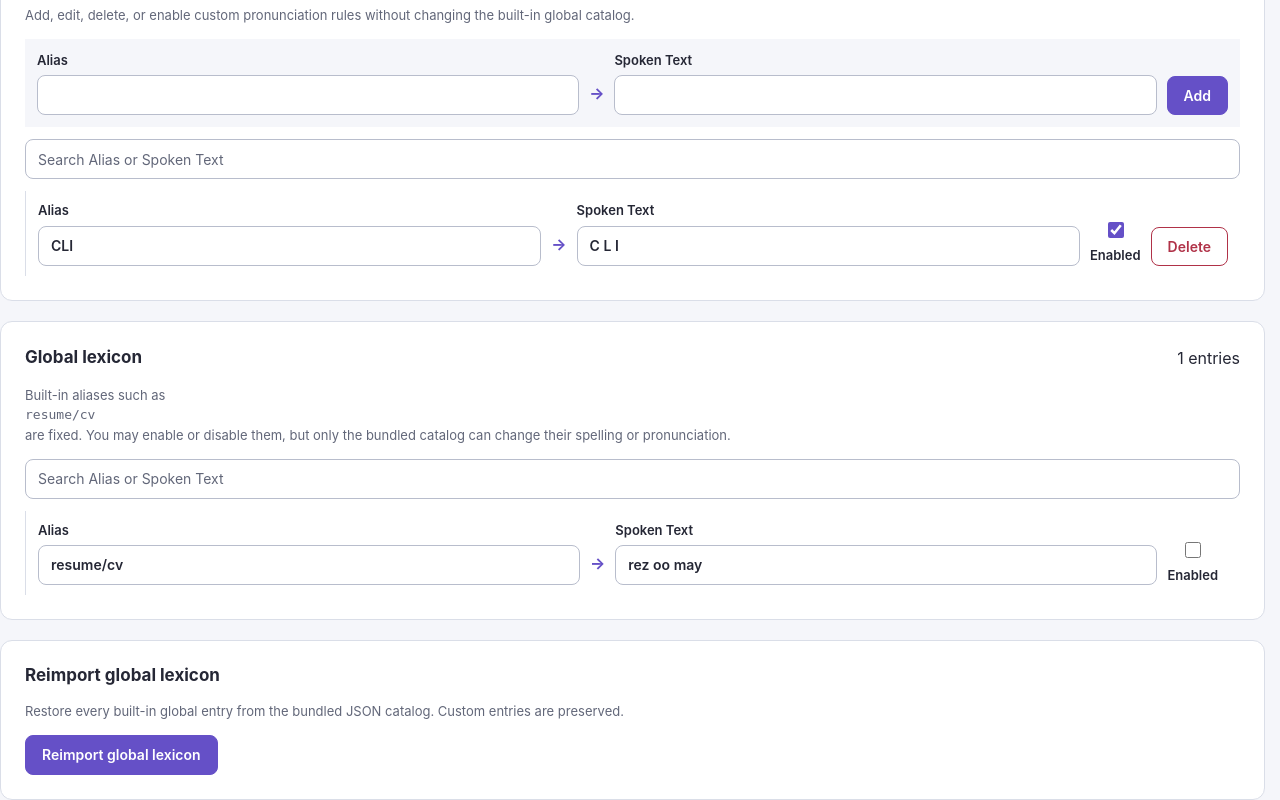
Scenario: Lexicon settings › reimports only built-ins and preserves custom entries
(page scrolled)
Expected: the 2nd field showing "C L I" is shown, [577, 226, 1080, 266]
Click the button "Reimport global lexicon" at x=121, y=755, box [25, 735, 218, 775]
(page scrolled)
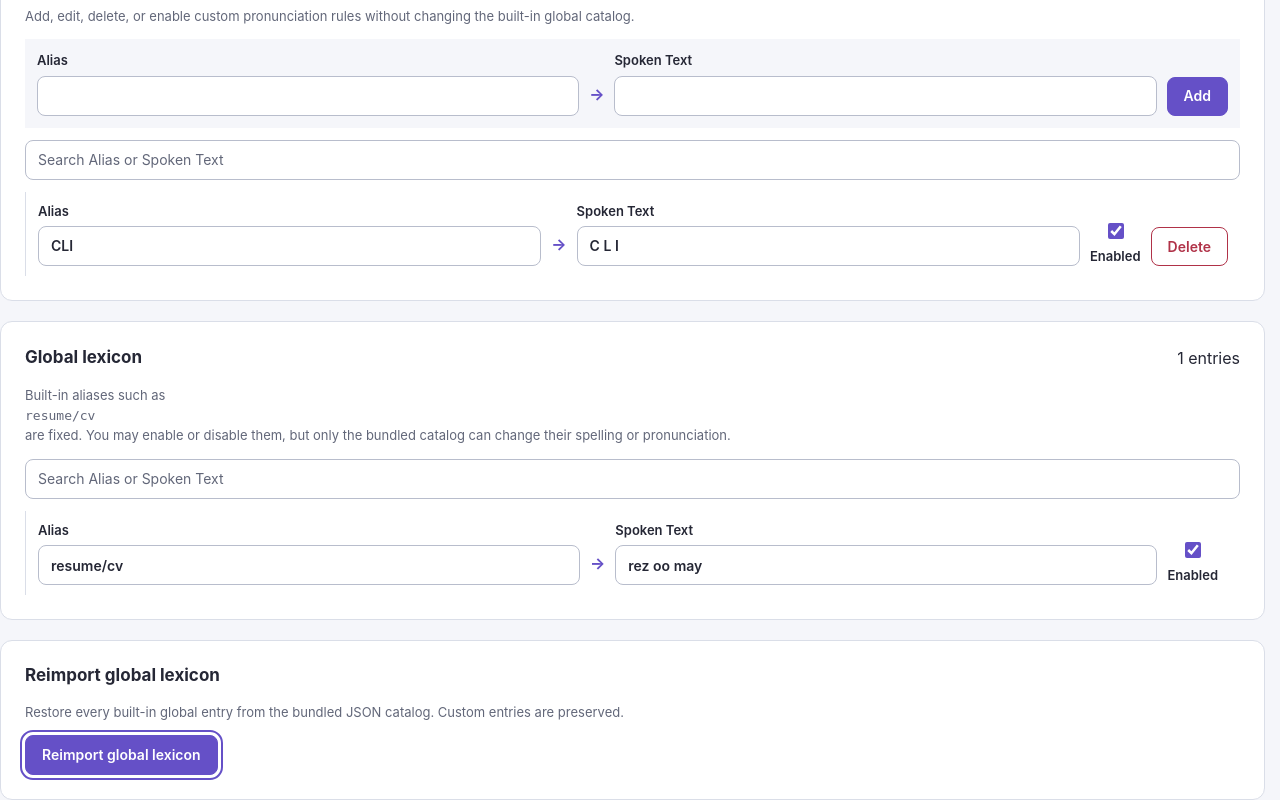
Expected: the 2nd field showing "C L I" is shown, [577, 226, 1080, 266]
Expected: the 2nd checkbox labelled "Enabled" is checked, [1171, 542, 1215, 558]
